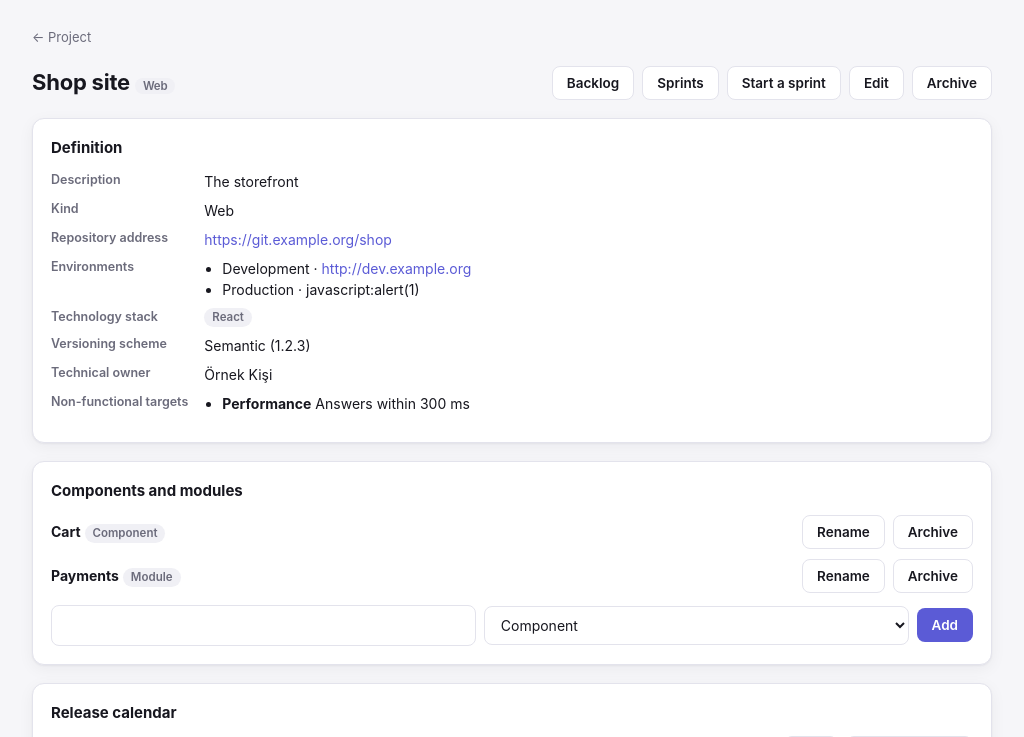
Test: the application page: components and modules › cancels a rename, refuses an empty name before asking, and shows the API's refusal
This screenshot has width=1024, height=737.
Click the button "Rename" in the row of "Cart". click: (843, 532)
box: x1=802 y1=515 x2=885 y2=549
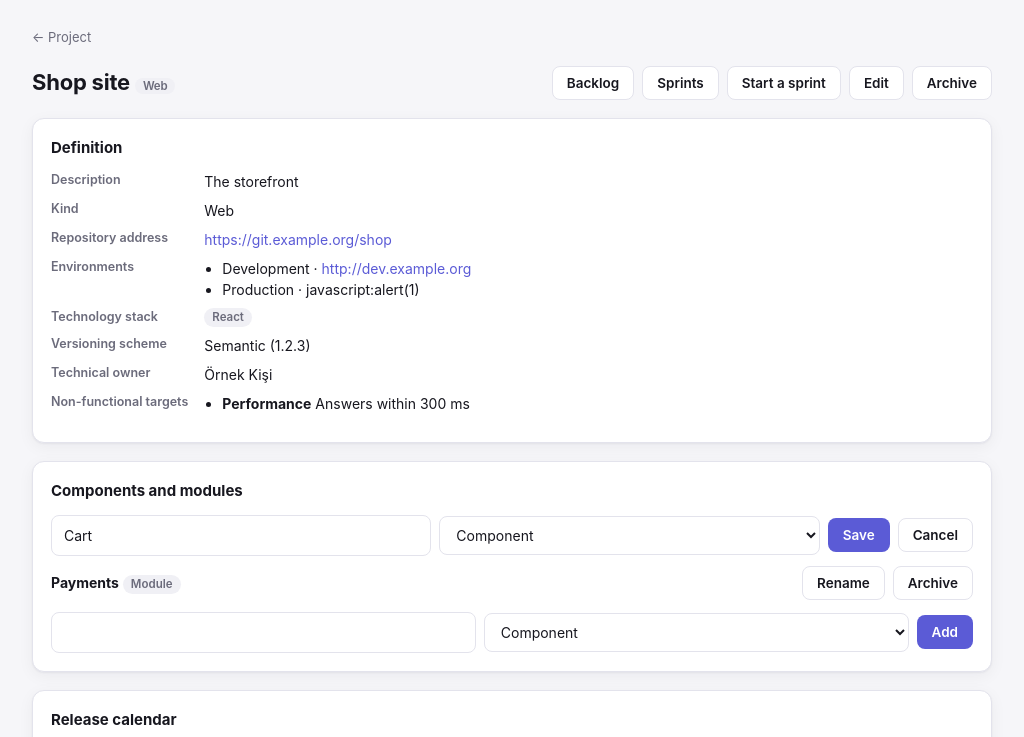
Click the button "Cancel". click: (935, 535)
box: x1=898 y1=518 x2=973 y2=552
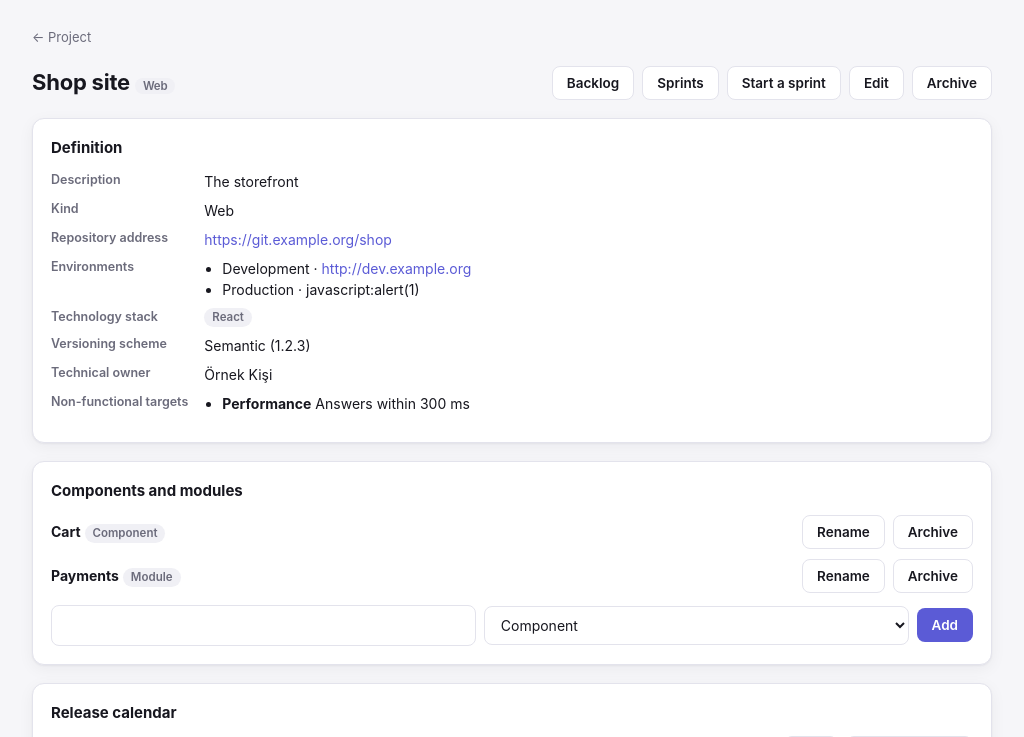
Click the button "Add". click: (945, 625)
box: x1=916 y1=608 x2=973 y2=642
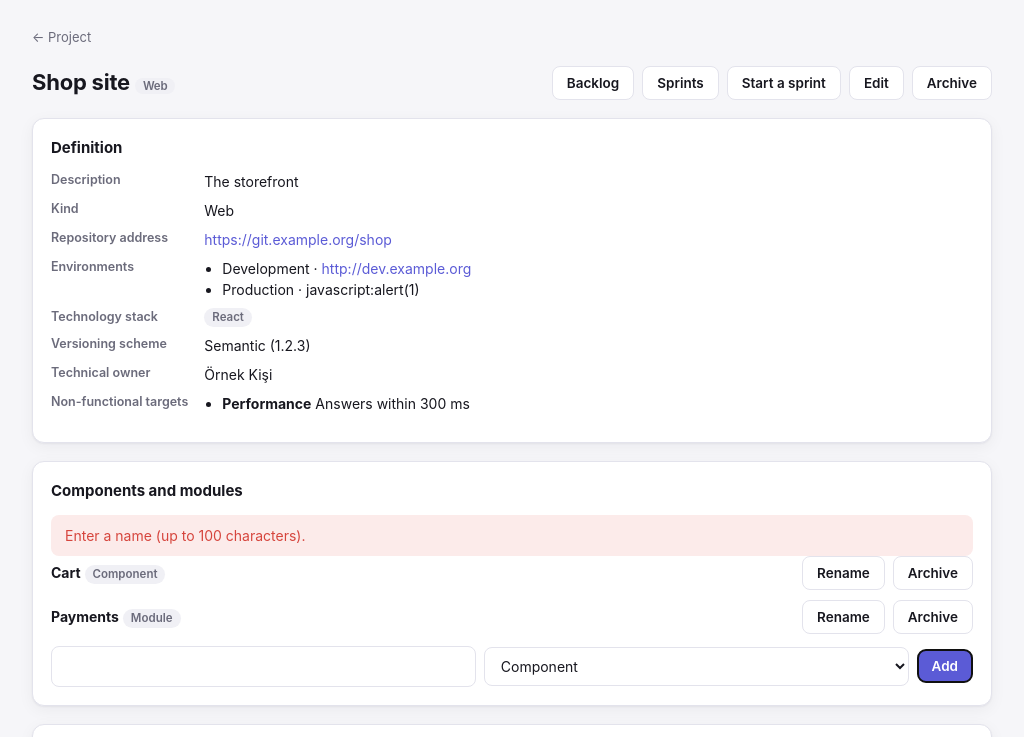
Expected: the text "Enter a name (up to 100 characters)." is shown, x1=51 y1=515 x2=973 y2=556
Type "X" into the field named "New component name". click: (263, 666)
box: x1=51 y1=646 x2=476 y2=687
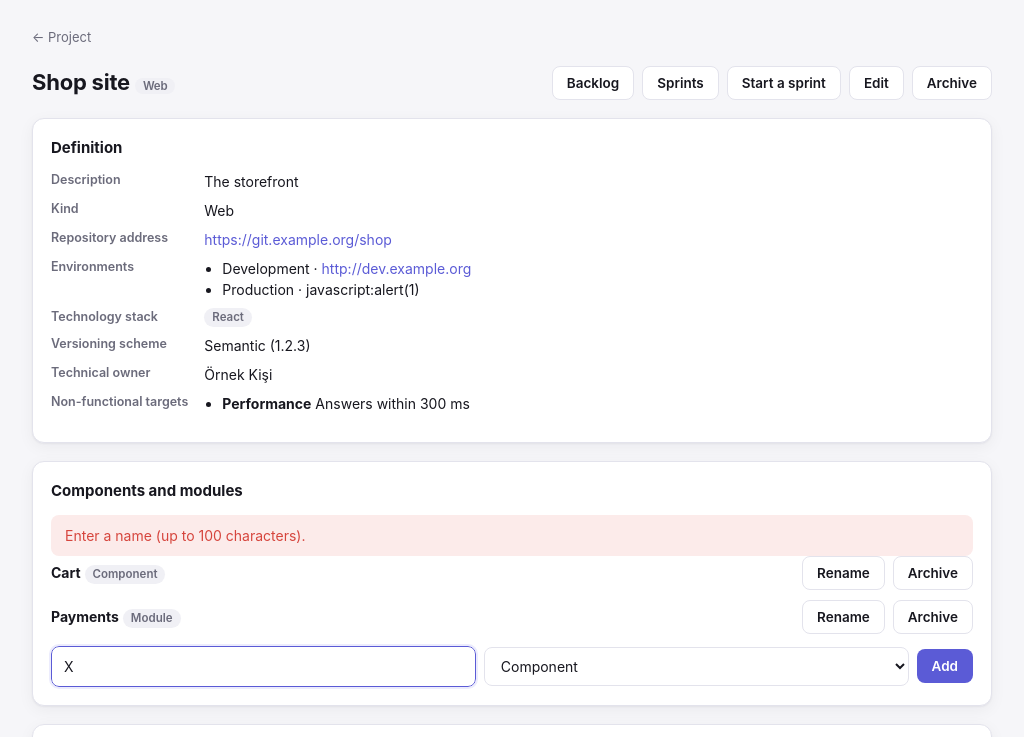
Click the button "Add". click: (945, 666)
box: x1=916 y1=649 x2=973 y2=683
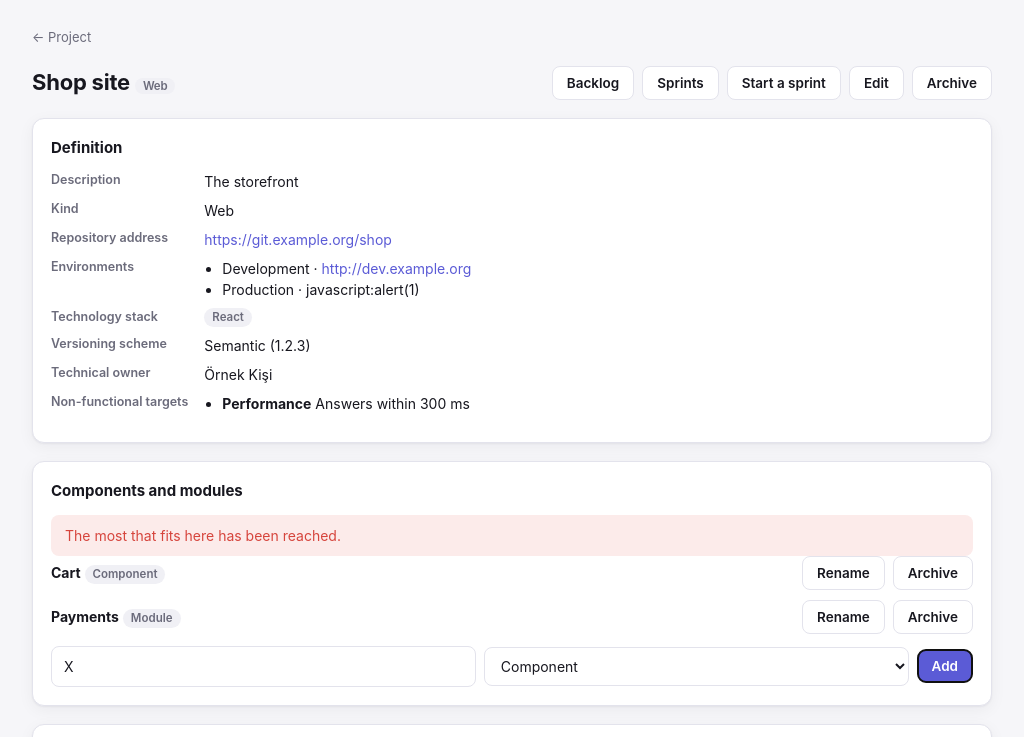
Expected: the text "The most that fits here has been reached." is shown, x1=51 y1=515 x2=973 y2=556
